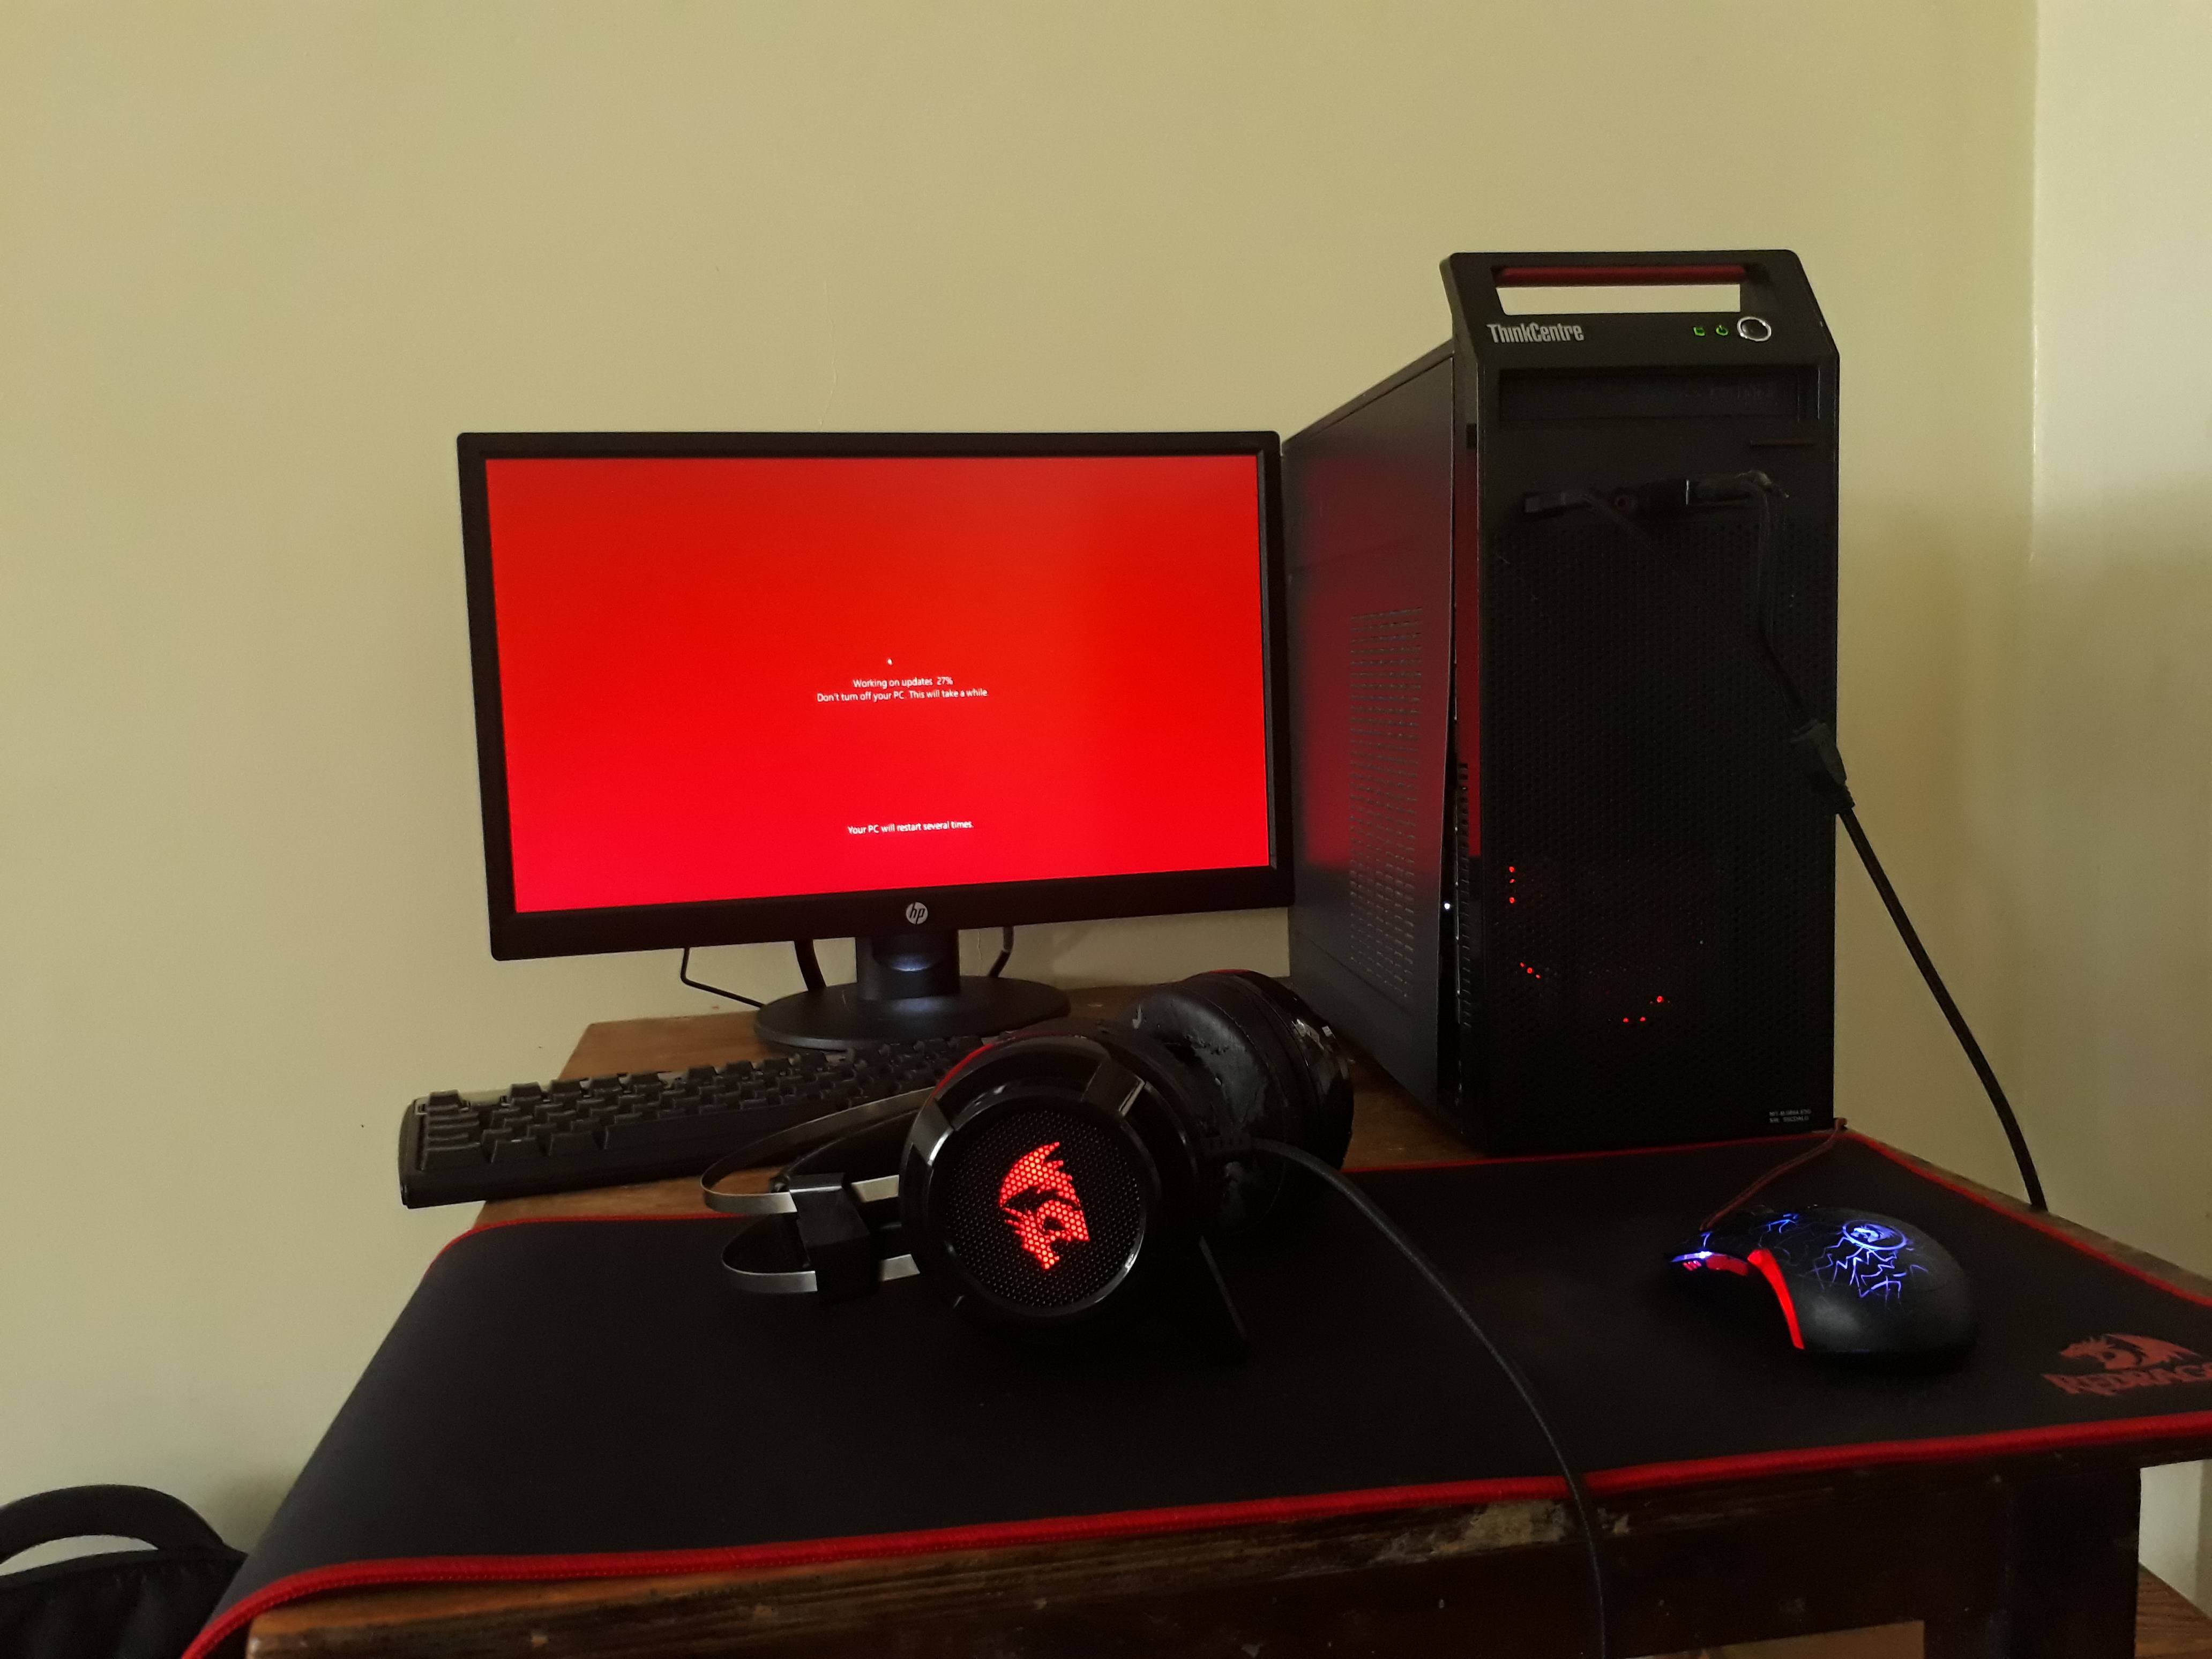Desk (Generic): (228, 1023, 2212, 1659)
Desktop (Windows): (1287, 249, 1832, 1173)
Headphones: (698, 969, 1353, 1330)
Keyboard (Generic): (395, 1037, 1026, 1213)
Monitor (Landscape): (456, 434, 1292, 1047)
Mouse (Gaming): (1665, 1201, 1970, 1359)
Mousepad (Gaming): (164, 1131, 2212, 1659)
